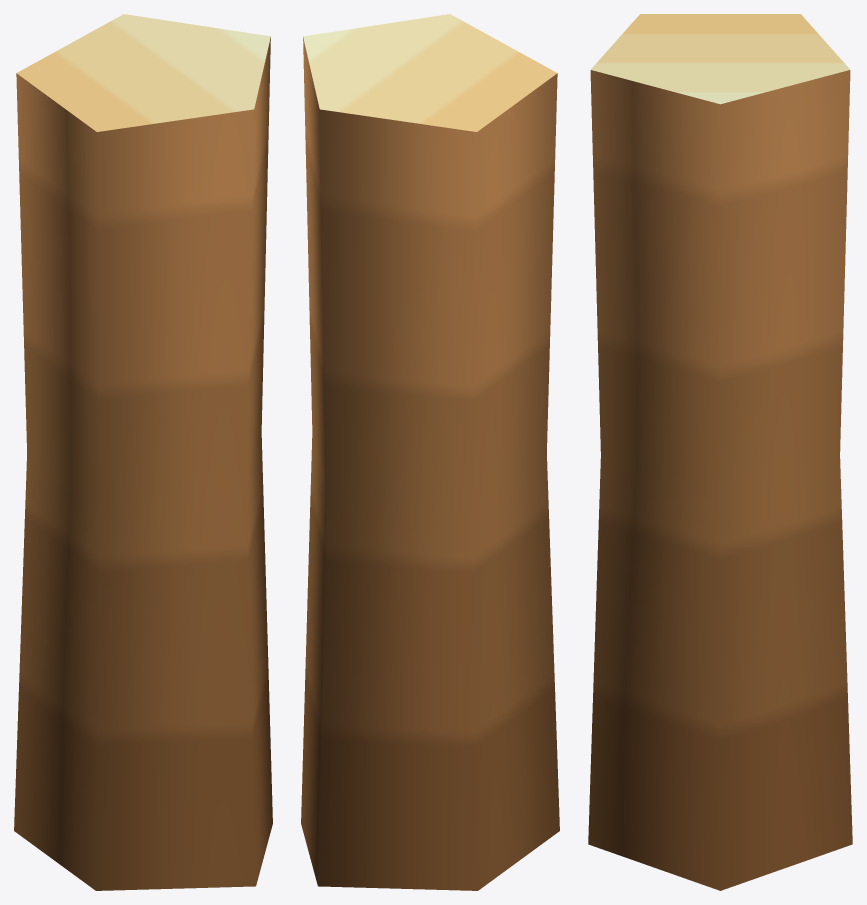
The model's file is tree_001.fbx.
3 views of the same model, side by side, from view 1: azimuth 30°, elevation 25°; view 2: azimuth 150°, elevation 25°; view 3: azimuth 270°, elevation 25° (orthographic).
Visible parts, largest first — view 1: tree.001; view 2: tree.001; view 3: tree.001.
Boxes of the visible parts, x1=… form: tree.001: x1=14, y1=14, x2=272, y2=890; tree.001: x1=301, y1=14, x2=559, y2=890; tree.001: x1=588, y1=14, x2=852, y2=890.
Size of the model in its own units: 4.33 by 14.94 by 4.56.
